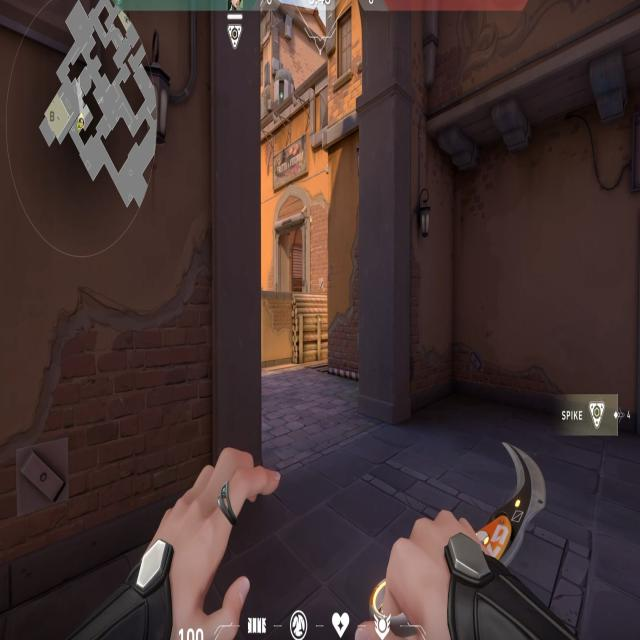B_Cubby: (252, 276, 340, 381)
